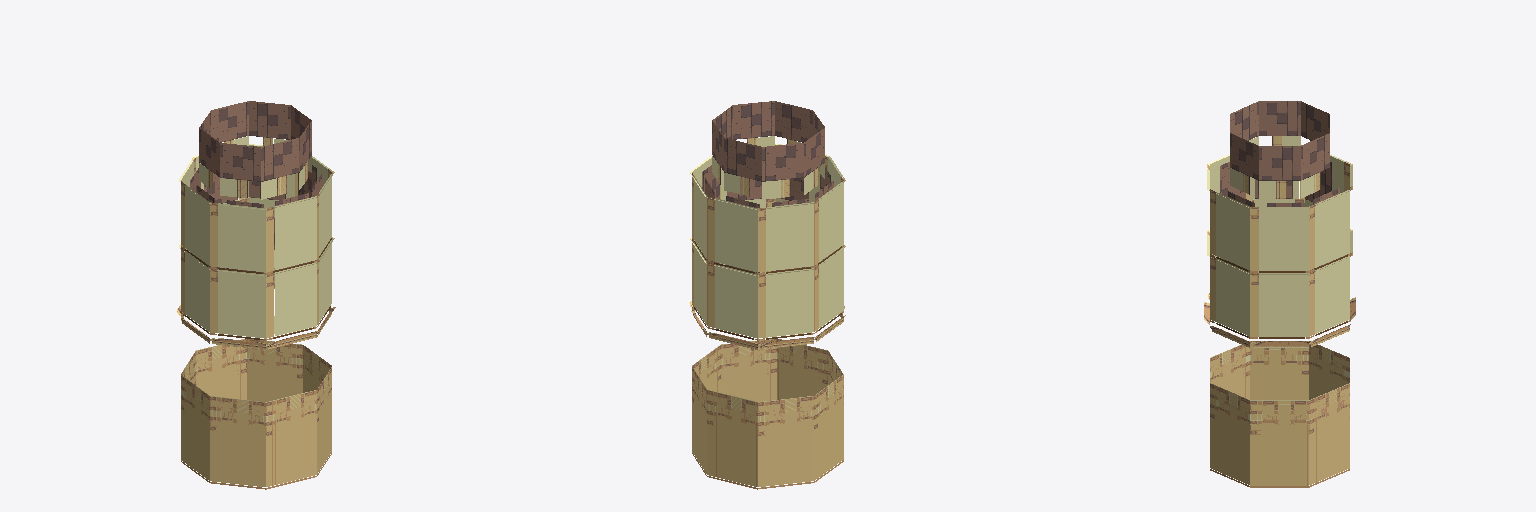
3 renders of one model, left to right at view 1: azimuth 30°, elevation 25°; view 2: azimuth 150°, elevation 25°; view 3: azimuth 270°, elevation 25°, orthographic.
Parts seen in each view (by area): view 1: Default; view 2: Default; view 3: Default.
Boxes of the visible parts, x1,y1,x2,y2 form: Default: [176, 101, 335, 489]; Default: [689, 101, 845, 489]; Default: [1204, 101, 1355, 487].
Bounding box in the file's own units: 20.77 × 61 × 20.81.
1 materials, 1 textured.